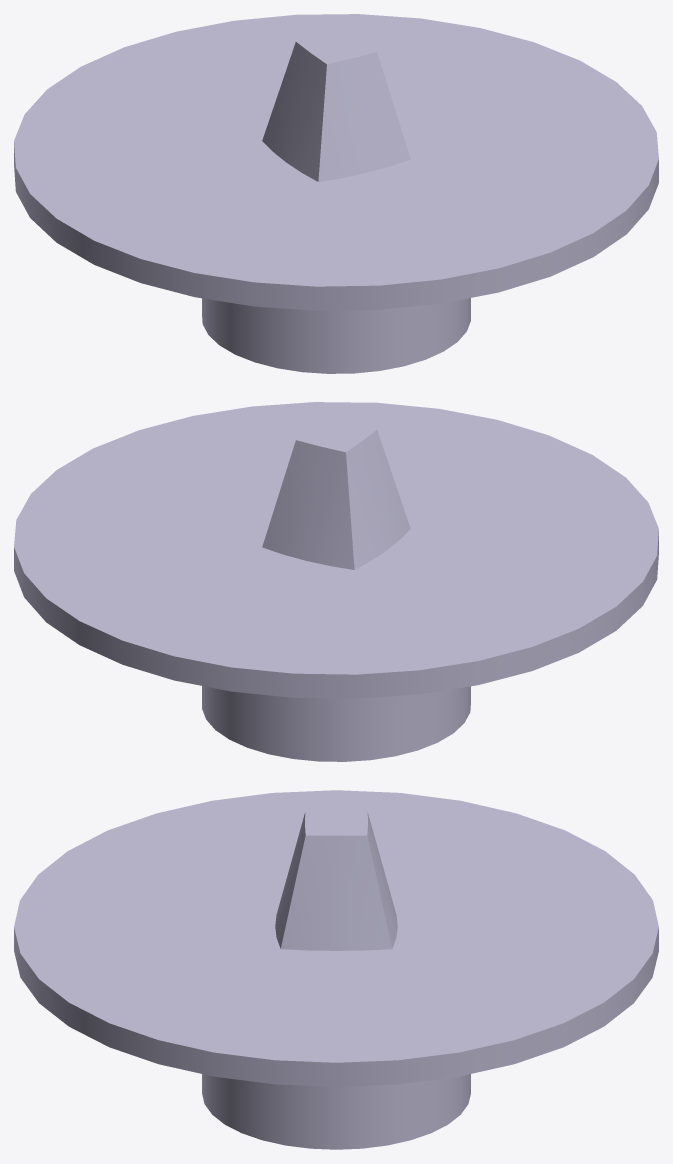
The model's file is kujang-handguard.fbx.
3 views of the same model, one above another, from view 1: azimuth 30°, elevation 25°; view 2: azimuth 150°, elevation 25°; view 3: azimuth 270°, elevation 25° (orthographic).
Visible parts, largest first — view 1: Cylinder.005; view 2: Cylinder.005; view 3: Cylinder.005.
Boxes of the visible parts, box(x1,y1,x2,y2) form: Cylinder.005: box(14, 14, 658, 373); Cylinder.005: box(14, 402, 658, 761); Cylinder.005: box(14, 790, 658, 1149).
Bounding box in the file's own units: 73.84 × 34.05 × 73.84.
